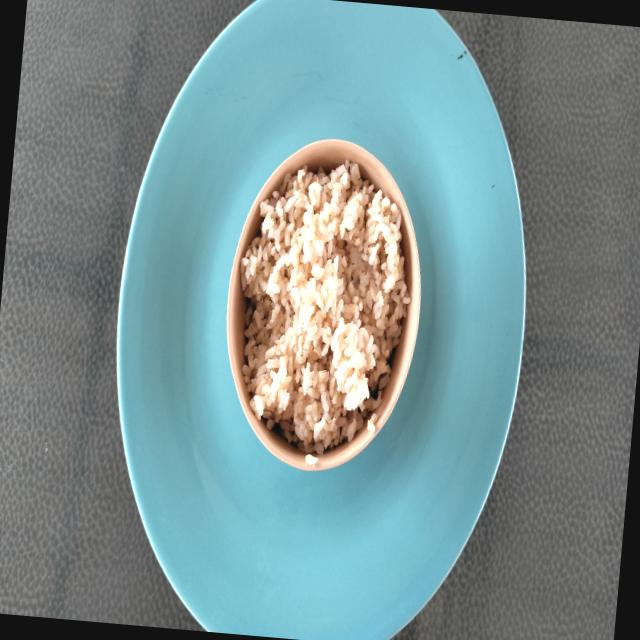brown-rice: (240, 161, 410, 455)
